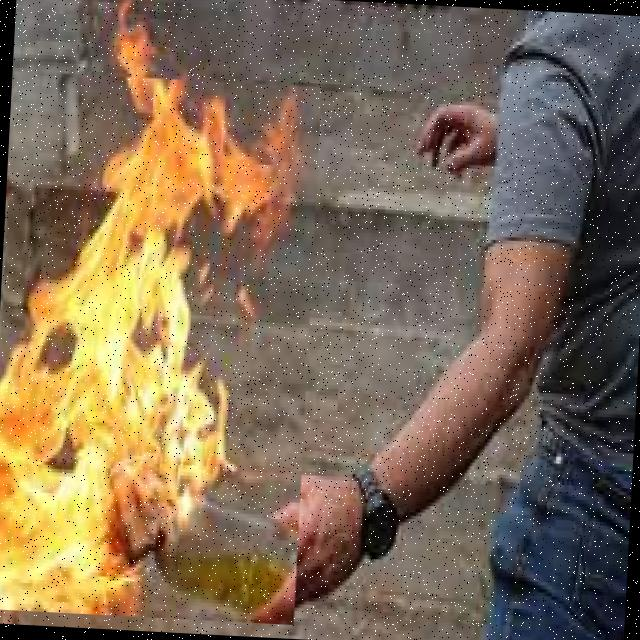fire: (0, 71, 322, 625)
